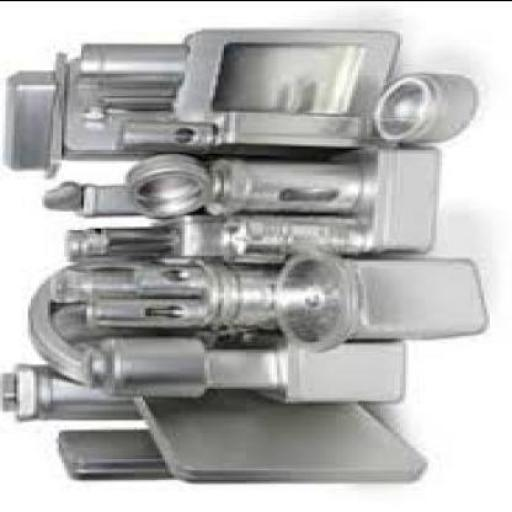metal: (126, 389, 428, 480), (179, 26, 401, 141), (84, 334, 403, 402), (26, 260, 196, 382), (64, 56, 196, 159), (324, 143, 436, 252), (342, 256, 486, 336), (204, 154, 367, 212), (210, 110, 403, 156), (0, 361, 143, 417), (272, 248, 352, 348), (372, 72, 476, 143), (148, 210, 282, 261), (191, 257, 279, 328), (50, 426, 168, 477), (126, 151, 219, 212), (223, 212, 364, 252), (51, 263, 198, 296), (3, 67, 47, 168), (65, 227, 179, 257), (78, 40, 182, 72), (73, 183, 176, 212), (118, 118, 218, 147), (87, 300, 201, 322), (134, 261, 204, 288), (48, 50, 62, 174), (78, 72, 184, 84), (76, 84, 176, 94), (38, 179, 76, 205), (78, 95, 171, 102)
